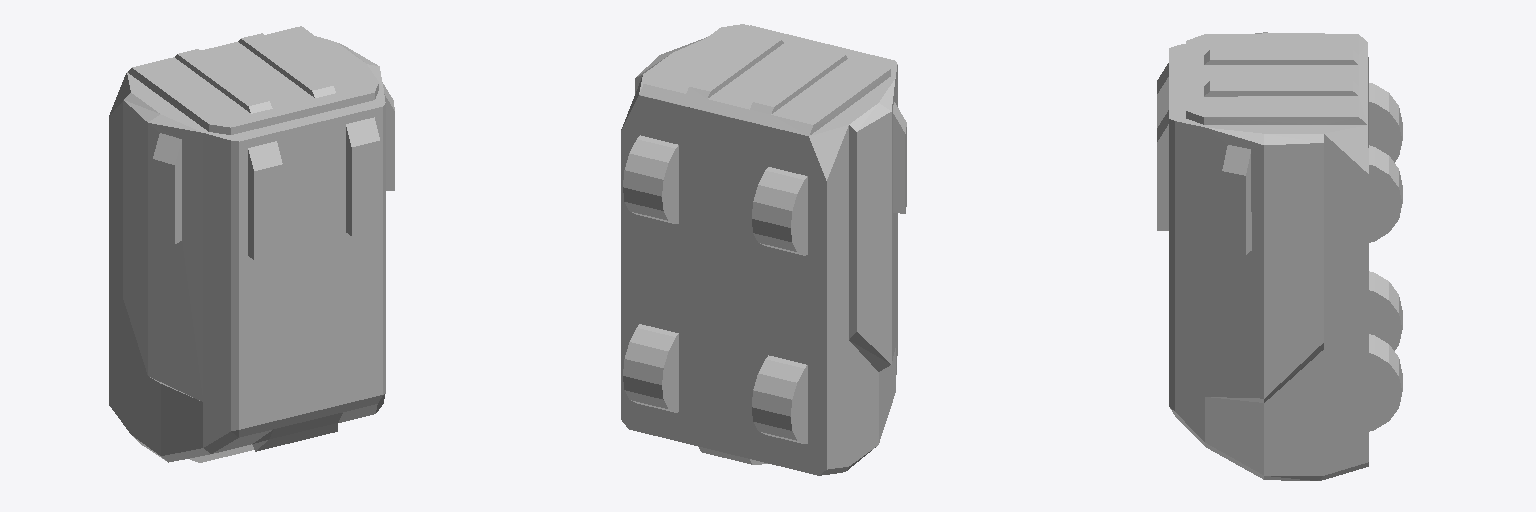
File: vtb.obj
The picture shows the model from 3 angles: view 1: azimuth 30°, elevation 25°; view 2: azimuth 150°, elevation 25°; view 3: azimuth 270°, elevation 25°; orthographic projection.
Bounding box in the file's own units: 0.6359 × 0.9373 × 0.5602.